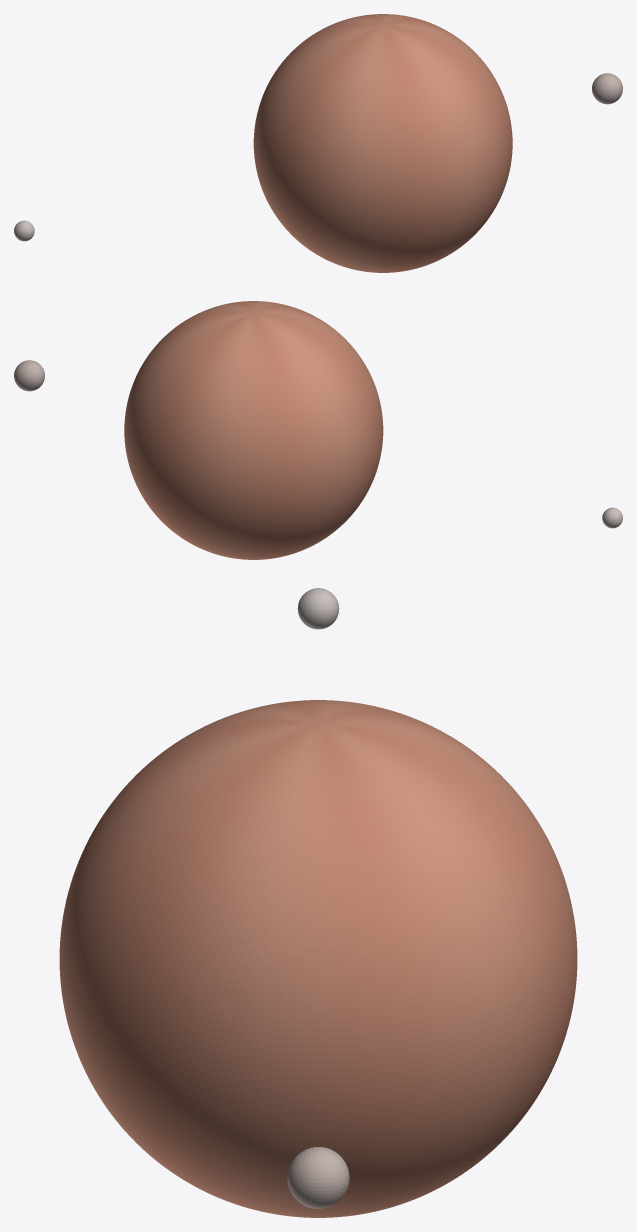
File: mars_system_textured.glb
3 views of the same model, one above another, from view 1: azimuth 30°, elevation 25°; view 2: azimuth 150°, elevation 25°; view 3: azimuth 270°, elevation 25° (orthographic). The views are drawn at different scales.
Visible parts, largest first — view 1: Mars, Phobos; view 2: Mars, Phobos; view 3: Mars, Phobos, Deimos.
Boxes of the visible parts, x1=… form: Mars: x1=253, y1=14, x2=512, y2=272; Phobos: x1=592, y1=73, x2=622, y2=104; Mars: x1=124, y1=301, x2=383, y2=559; Phobos: x1=14, y1=360, x2=44, y2=391; Mars: x1=59, y1=700, x2=577, y2=1217; Phobos: x1=287, y1=1147, x2=349, y2=1208; Deimos: x1=297, y1=588, x2=339, y2=629.
Bounding box in the file's own units: 5.4 × 2 × 2.
